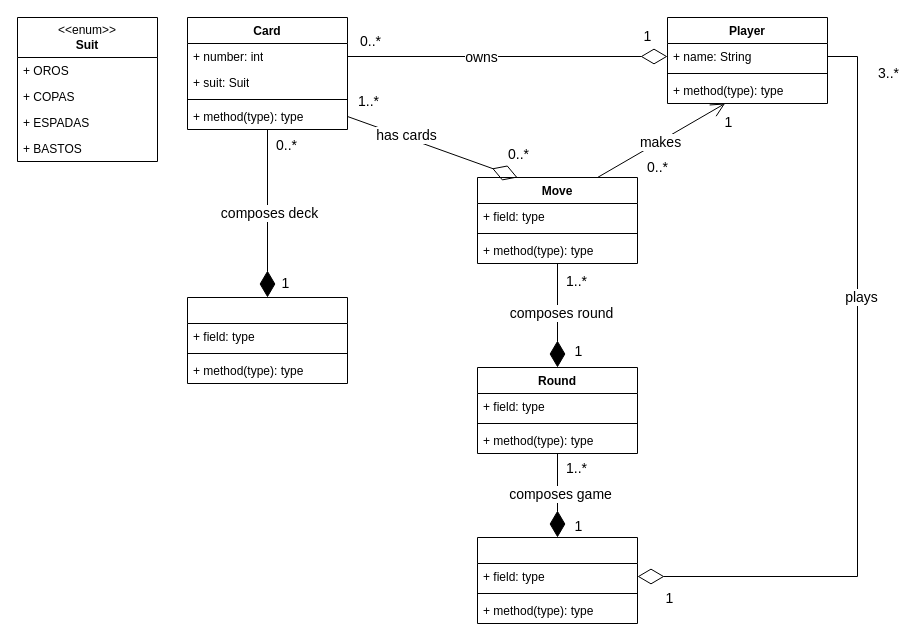
Image size: 916x644. Some labels were removed from this diagram. The box of each missing label's shape, as (x1, y1, x2, y2) in pixels:
Deck: (186, 296, 348, 384)
Game: (476, 536, 638, 624)
